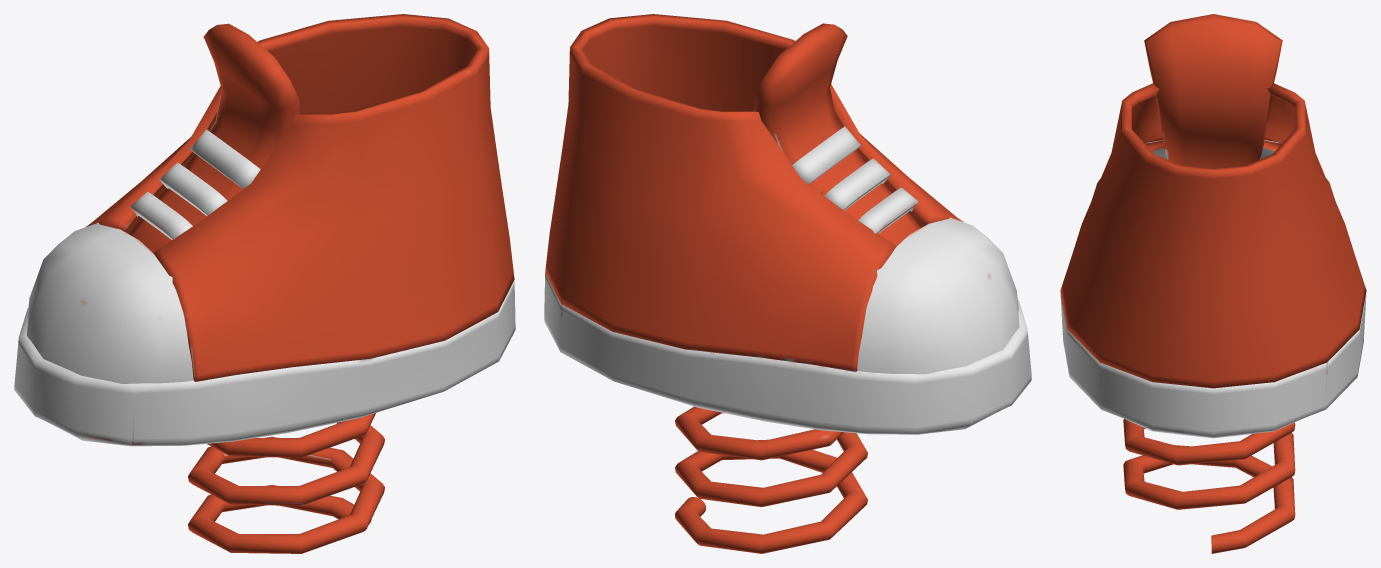
The model's file is shoeProp.glb.
The picture shows the model from 3 angles, left to right: view 1: azimuth 30°, elevation 25°; view 2: azimuth 150°, elevation 25°; view 3: azimuth 270°, elevation 25°; orthographic projection. The views are drawn at different scales.
Visible parts, largest first — view 1: BezierCircle; view 2: BezierCircle; view 3: BezierCircle.
Part boxes in pixels (left/top/right/bottom): BezierCircle: left=14, top=14, right=515, bottom=553; BezierCircle: left=544, top=14, right=1031, bottom=553; BezierCircle: left=1060, top=14, right=1366, bottom=553.
Bounding box in the file's own units: 0.758 × 0.819 × 0.4705.
1 material, 1 textured.
